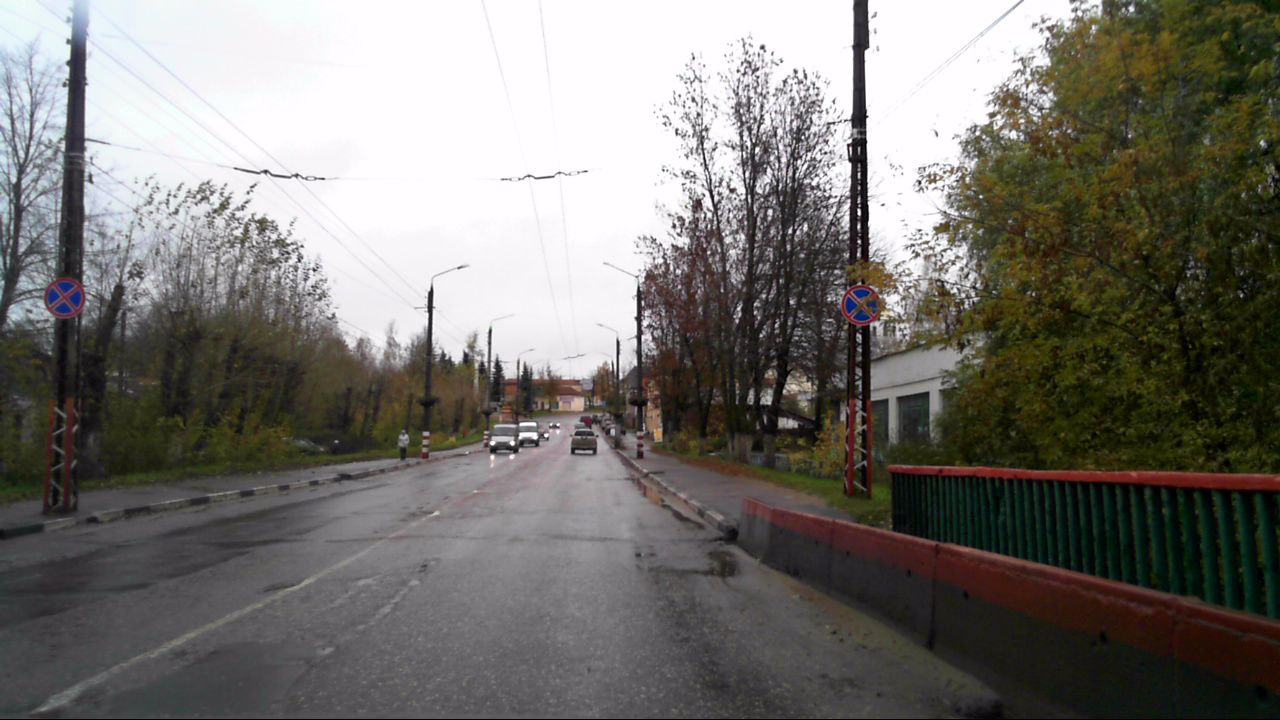No Parking: (44, 277, 85, 318)
